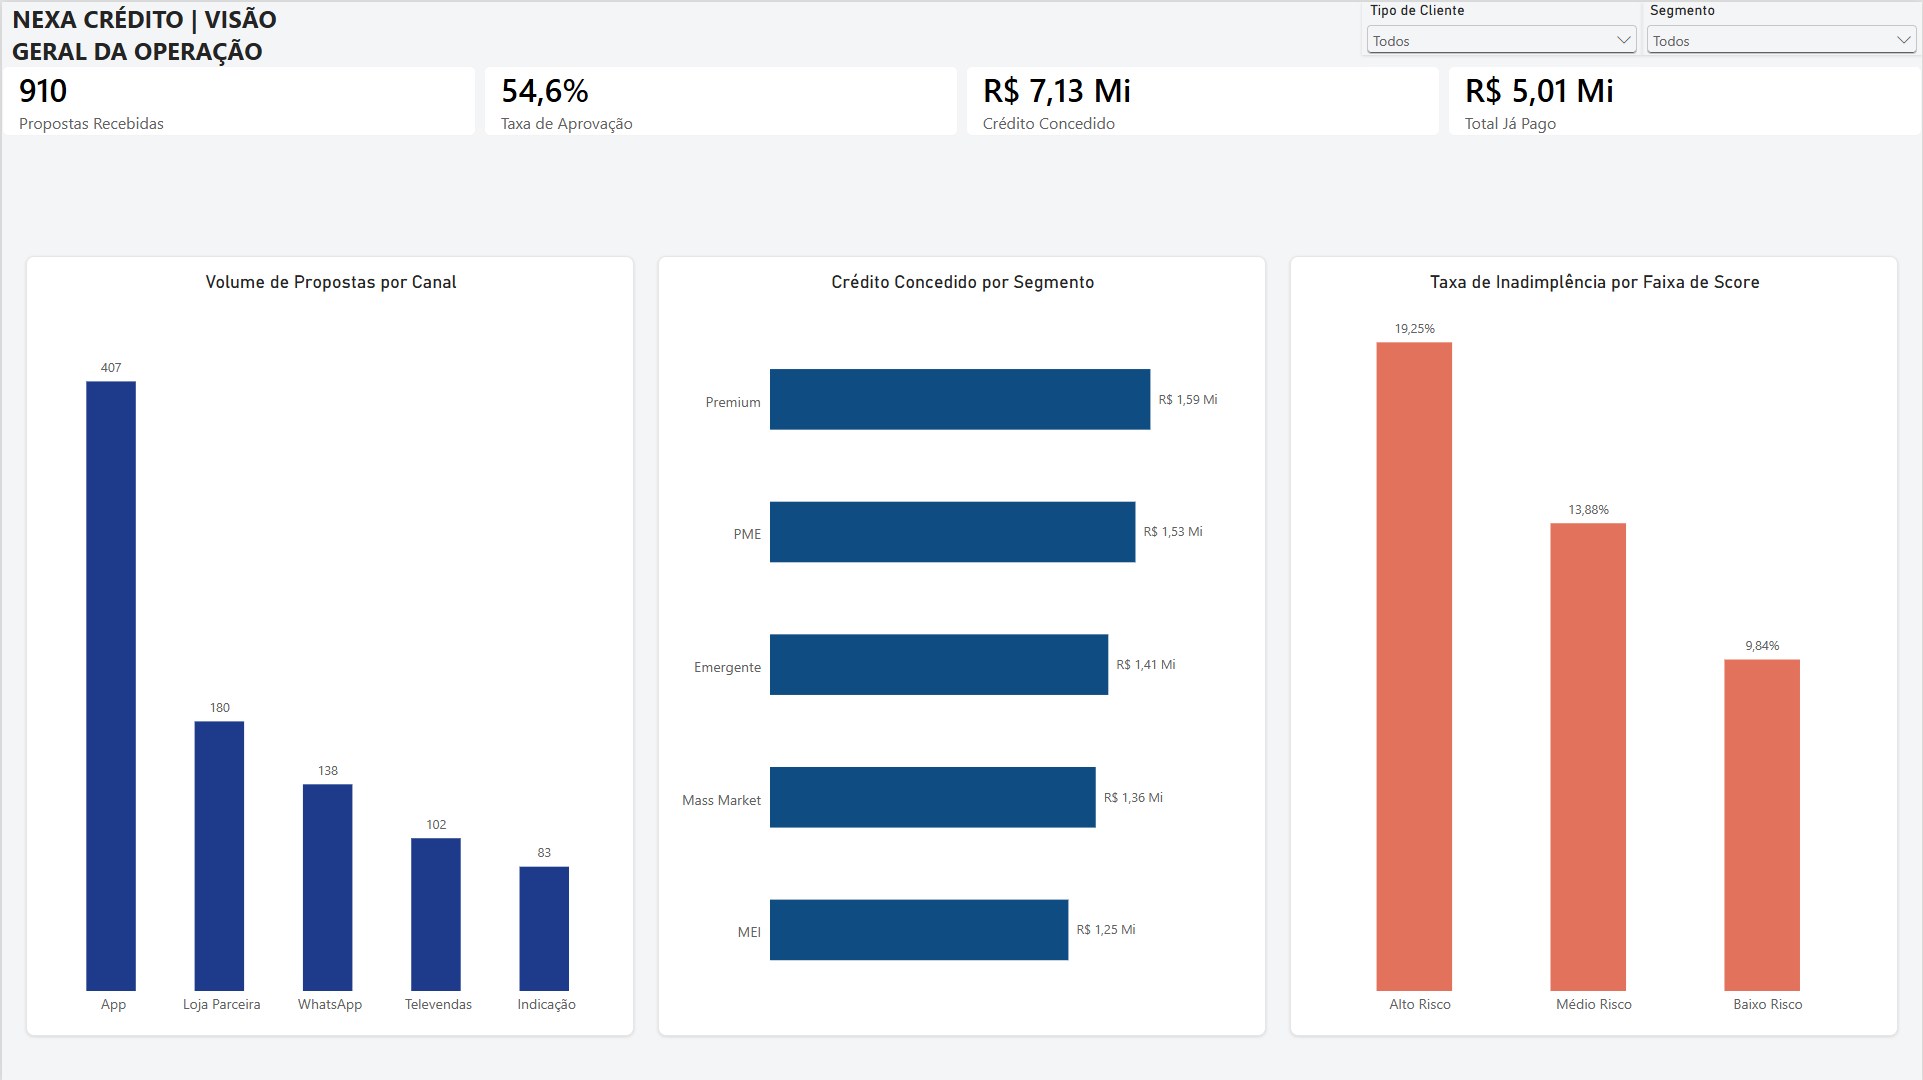

The dashboard page shown, as its layout file describes it:
{"tool":"powerbi","page":{"name":"Página 1","canvas":[1920,1080],"ordinal":0},"visuals":[{"type":"textbox","box":[9.8,0,279.8,63.8],"z":0},{"type":"slicer","title":"Segmento","fields":{"Values":["obt_funil_originacao.ds_segmento"]},"box":[1640.2,0,279.8,53],"z":1000},{"type":"slicer","title":"Tipo de Cliente","fields":{"Values":["obt_funil_originacao.tipo_cliente"]},"box":[1360.5,0,279.8,53],"z":2000},{"type":"cardVisual","fields":{"Data":["_Medidas.Total_Propostas","_Medidas.Taxa_Aprovacao","_Medidas.Credito_Concedido","_Medidas.Total_Pago"]},"box":[0,63.8,1920,70.7],"z":3000},{"type":"clusteredColumnChart","title":"Volume de Propostas por Canal","fields":{"Category":["obt_funil_originacao.canal_origem"],"Y":["_Medidas.Total_Propostas"]},"box":[23.9,254.3,608,780],"z":4000},{"type":"clusteredBarChart","title":"Crédito Concedido por Segmento","fields":{"Category":["obt_funil_originacao.ds_segmento"],"Y":["_Medidas.Credito_Concedido"]},"box":[655.9,254.3,608,780],"z":5000},{"type":"clusteredColumnChart","title":"Taxa de Inadimplência por Faixa de Score","fields":{"Category":["obt_carteira_cobranca.faixa_score"],"Y":["_Medidas.Taxa_Inadimplencia"]},"box":[1287.9,254.3,608,780],"z":6000}]}

Visuals, with their boxes in screenshot pixels (x1, y1, x2, y2), scaled from the page's 1920x1080 canvas onto the 1923x1080 screenshot:
textbox: (left=10, top=0, right=290, bottom=64)
"Segmento" slicer: (left=1643, top=0, right=1922, bottom=53)
"Tipo de Cliente" slicer: (left=1363, top=0, right=1643, bottom=53)
cardVisual - _Medidas.Total_Propostas x _Medidas.Taxa_Aprovacao: (left=0, top=64, right=1922, bottom=134)
"Volume de Propostas por Canal" clusteredColumnChart: (left=24, top=254, right=633, bottom=1034)
"Crédito Concedido por Segmento" clusteredBarChart: (left=657, top=254, right=1266, bottom=1034)
"Taxa de Inadimplência por Faixa de Score" clusteredColumnChart: (left=1290, top=254, right=1899, bottom=1034)
